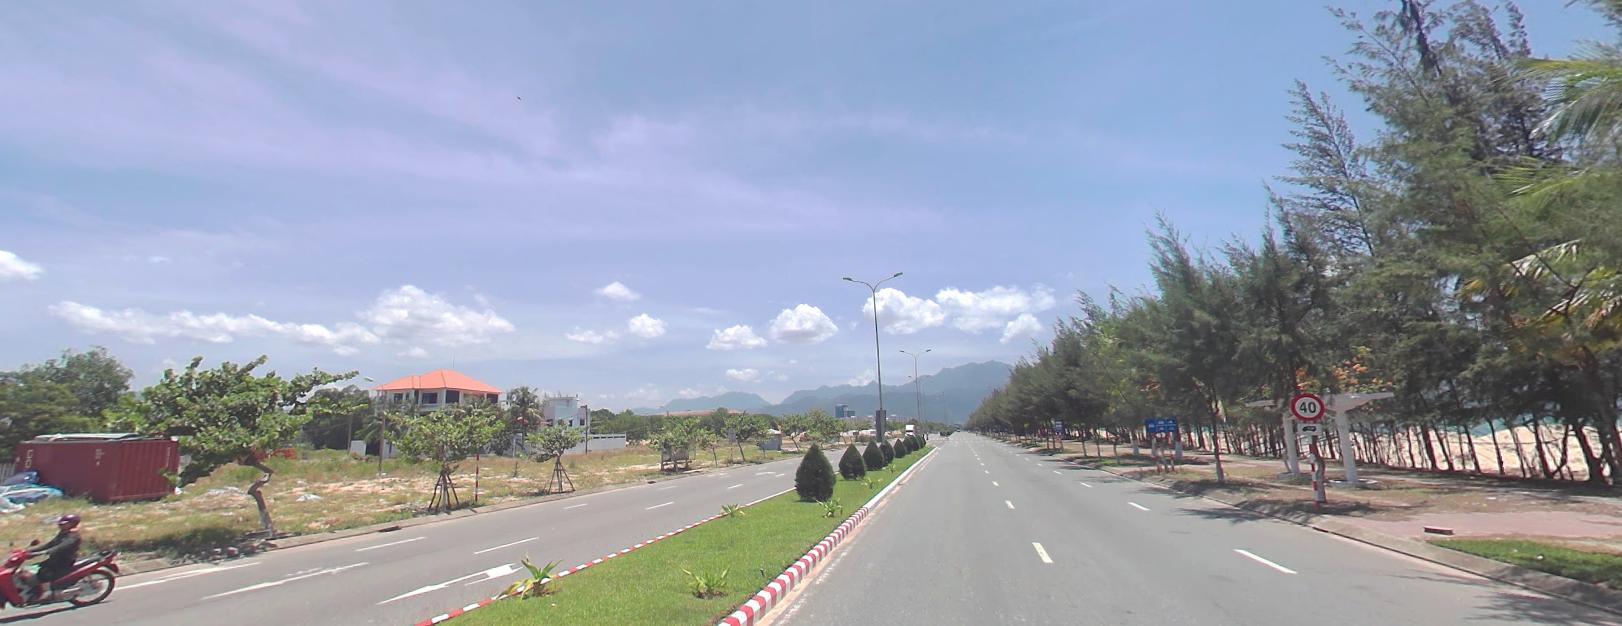Gioi han toc do: (1289, 389, 1325, 419)
